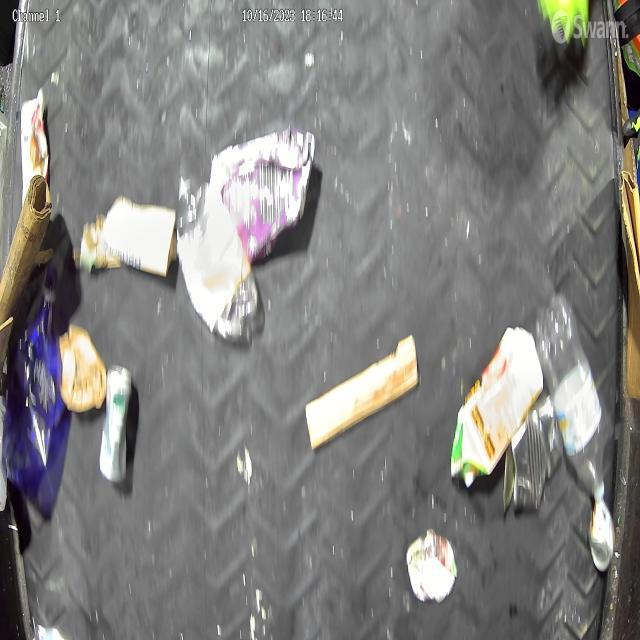can: (501, 392, 563, 514), (100, 363, 132, 483), (588, 502, 616, 572)
non_white_jug: (449, 326, 544, 486)
plastic_bottle: (535, 295, 609, 502)
